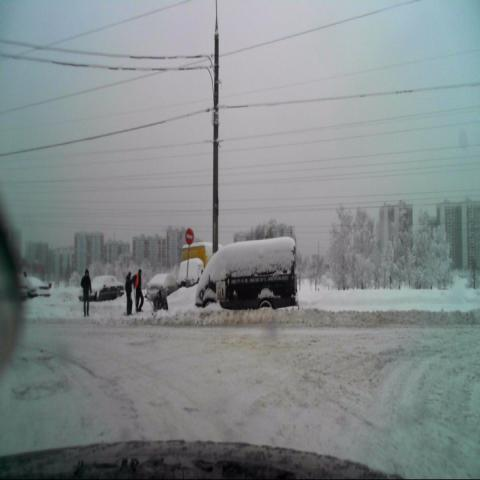3_1: (184, 224, 194, 246)
